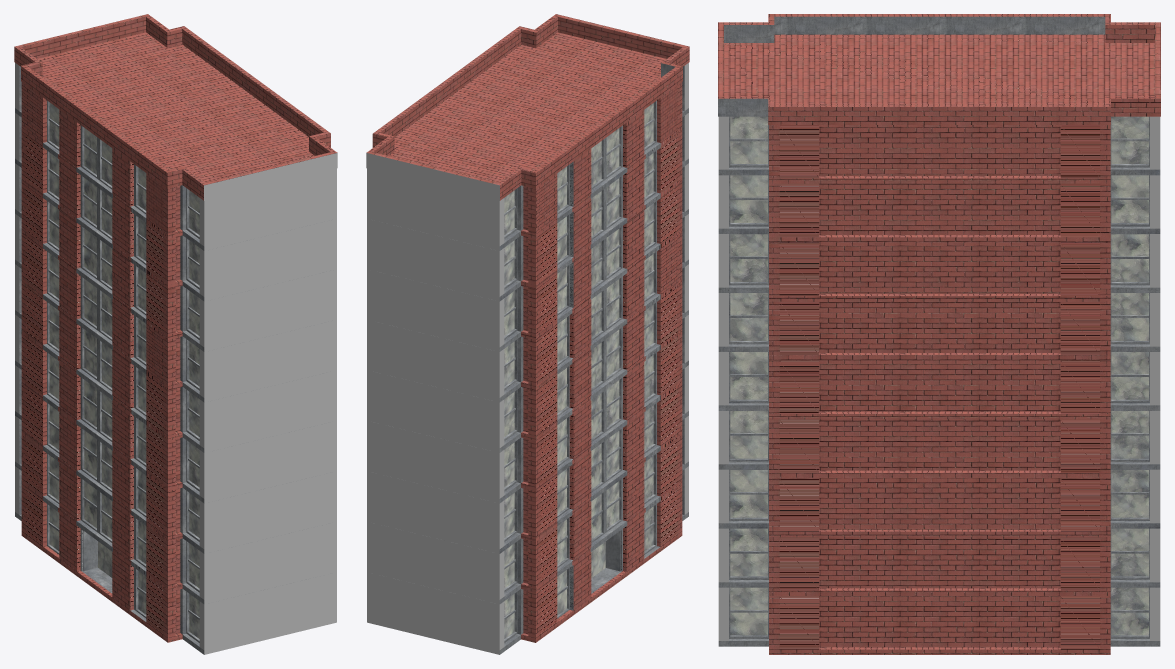
The model's file is EdificioVilla.obj.
The picture shows the model from 3 angles, left to right: view 1: azimuth 30°, elevation 25°; view 2: azimuth 150°, elevation 25°; view 3: azimuth 270°, elevation 25°; orthographic projection. The views are drawn at different scales.
Parts seen in each view (by area): view 1: building_001.002_building_001_mesh.003, building_001.004_building_001_mesh.005, building_001.005_building_001_mesh.006, building_001_building_001_mesh.001, building_001.001_building_001_mesh.002; view 2: building_001.002_building_001_mesh.003, building_001.004_building_001_mesh.005, building_001.005_building_001_mesh.006, building_001_building_001_mesh.001, building_001.001_building_001_mesh.002; view 3: building_001.003_building_001_mesh.004, building_001.005_building_001_mesh.006, building_001.001_building_001_mesh.002, building_001_building_001_mesh.001, building_001.002_building_001_mesh.003.
Part boxes in pixels (bbox=[...]): building_001.002_building_001_mesh.003: bbox=[15, 63, 337, 654]; building_001.004_building_001_mesh.005: bbox=[21, 82, 182, 642]; building_001.005_building_001_mesh.006: bbox=[14, 14, 337, 200]; building_001_building_001_mesh.001: bbox=[15, 66, 204, 654]; building_001.001_building_001_mesh.002: bbox=[49, 102, 199, 638]; building_001.002_building_001_mesh.003: bbox=[366, 63, 688, 654]; building_001.004_building_001_mesh.005: bbox=[521, 82, 682, 642]; building_001.005_building_001_mesh.006: bbox=[366, 14, 689, 200]; building_001_building_001_mesh.001: bbox=[499, 63, 688, 654]; building_001.001_building_001_mesh.002: bbox=[504, 103, 653, 638]; building_001.003_building_001_mesh.004: bbox=[768, 107, 1110, 654]; building_001.005_building_001_mesh.006: bbox=[718, 14, 1160, 116]; building_001.001_building_001_mesh.002: bbox=[730, 116, 1148, 635]; building_001_building_001_mesh.001: bbox=[718, 16, 1160, 646]; building_001.002_building_001_mesh.003: bbox=[718, 116, 1160, 640].
Size of the model in its own units: 11.07 by 30.43 by 22.27.
